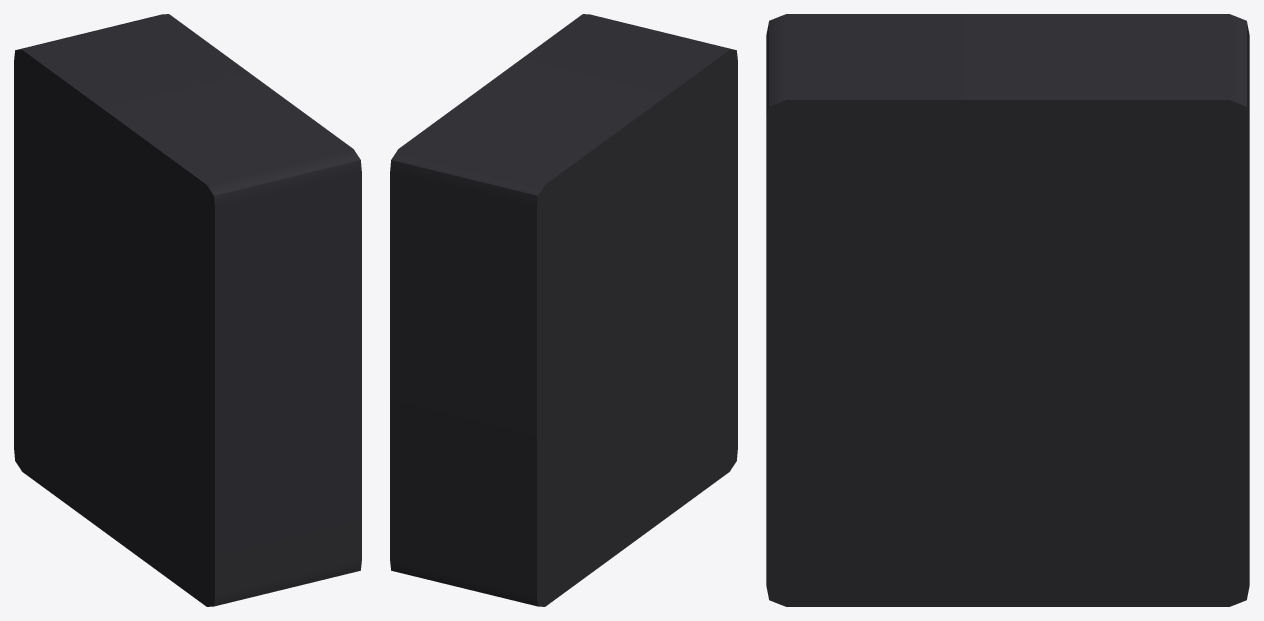
File: multimedia_computer.fbx
3 views of the same model, side by side, from view 1: azimuth 30°, elevation 25°; view 2: azimuth 150°, elevation 25°; view 3: azimuth 270°, elevation 25° (orthographic). The views are drawn at different scales.
Parts seen in each view (by area): view 1: multimedia_computer; view 2: multimedia_computer; view 3: multimedia_computer.
Boxes of the visible parts, box(x1,y1,x2,y2) form: multimedia_computer: box(14, 14, 361, 606); multimedia_computer: box(390, 14, 737, 606); multimedia_computer: box(766, 14, 1249, 606).
Size of the model in its own units: 0.000818 by 0.00225 by 0.00194.
Materials: 1 (1 with a texture image).
